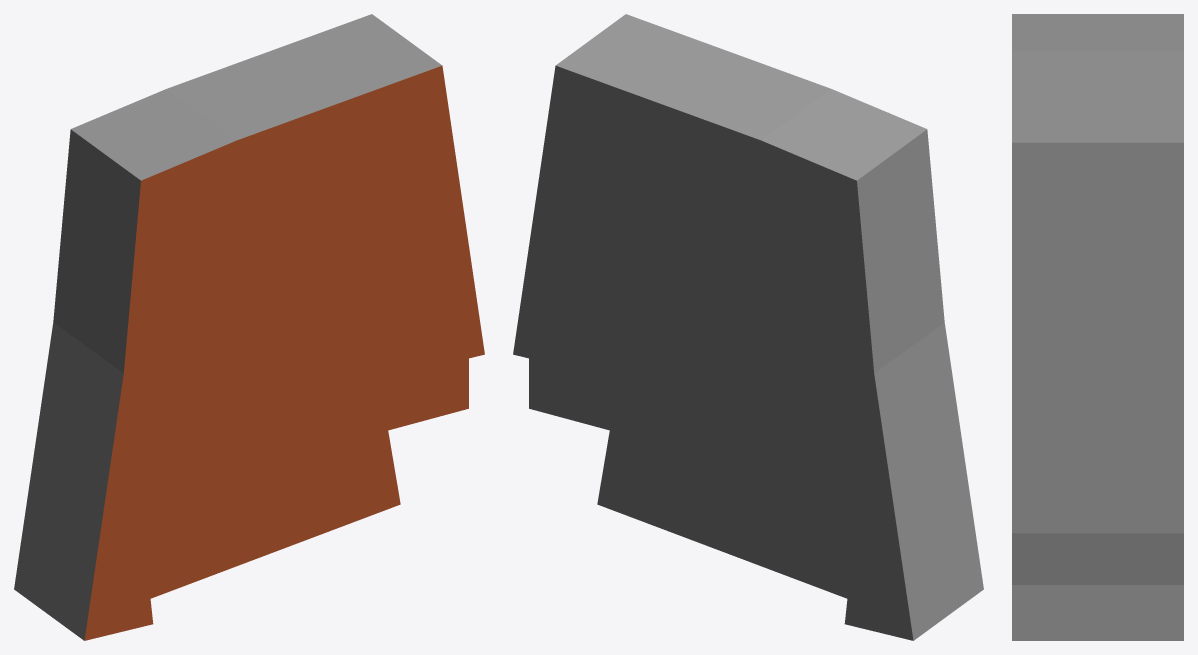
The model's file is construction_0685_assumed_A_Casa_h6m.obj.
The picture shows the model from 3 angles, left to right: view 1: azimuth 30°, elevation 25°; view 2: azimuth 150°, elevation 25°; view 3: azimuth 270°, elevation 25°; orthographic projection. The views are drawn at different scales.
Visible parts, largest first — view 1: construction_0685_assumed_A_Casa; view 2: construction_0685_assumed_A_Casa; view 3: construction_0685_assumed_A_Casa.
Boxes of the visible parts, x1=… form: construction_0685_assumed_A_Casa: x1=14, y1=14, x2=484, y2=640; construction_0685_assumed_A_Casa: x1=513, y1=14, x2=983, y2=640; construction_0685_assumed_A_Casa: x1=1012, y1=14, x2=1183, y2=640.
Size of the model in its own units: 19.69 by 22.94 by 6.
